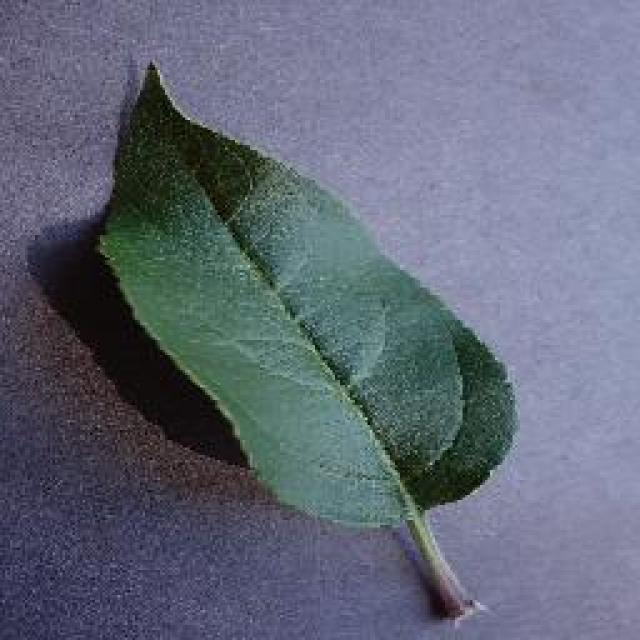apple healthy: (92, 55, 520, 617)
